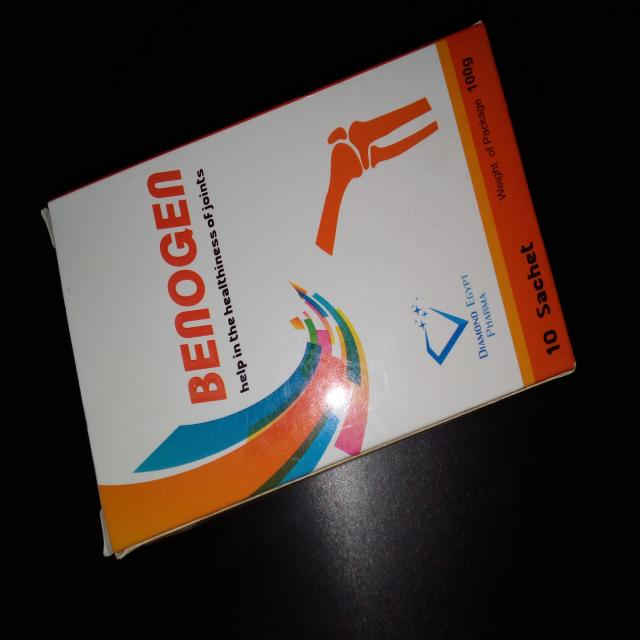Medicine: (44, 12, 577, 546)
